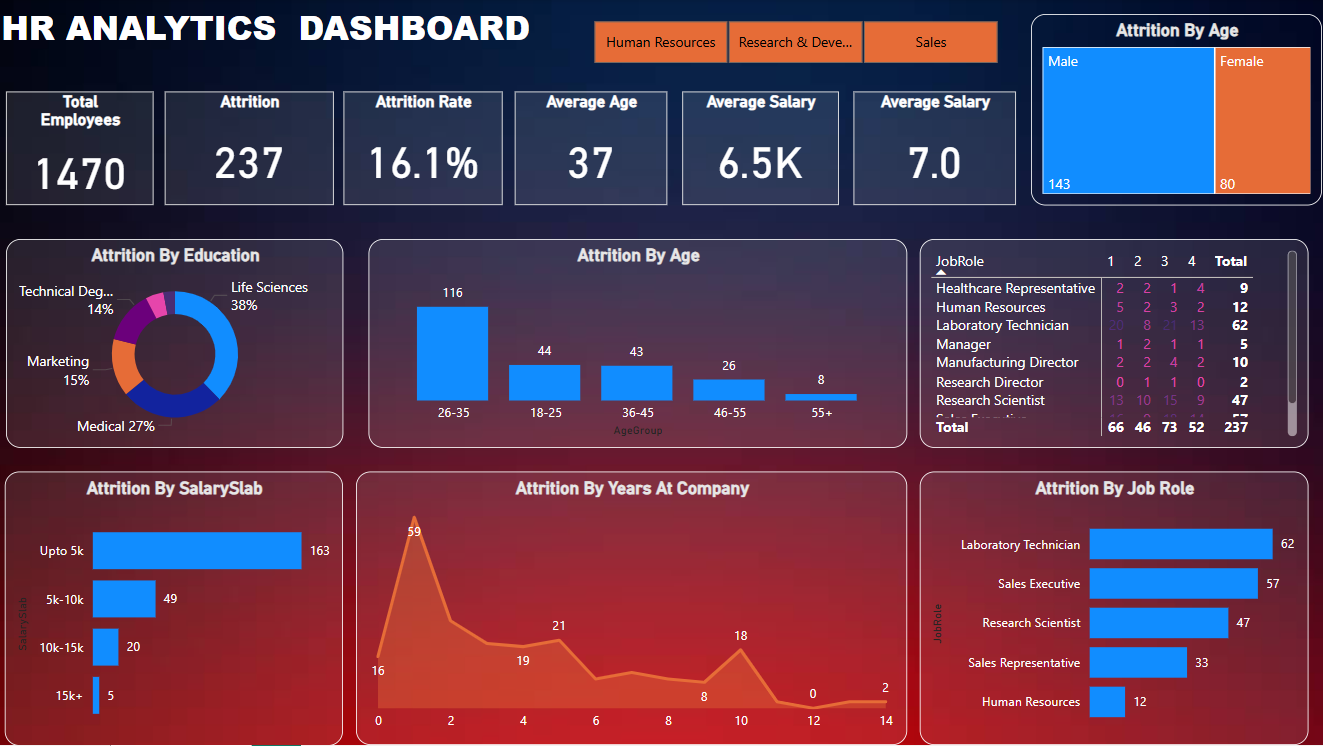

The dashboard page shown, as its layout file describes it:
{"tool":"powerbi","page":{"name":"DASHBOARD","canvas":[1280,720],"ordinal":0},"visuals":[{"type":"card","title":"Total Employees","fields":{"Values":["Count(HR_Analytics.EmpID)"]},"box":[9.7,89.3,142.4,109.8],"z":0},{"type":"card","title":"Attrition","fields":{"Values":["Sum(HR_Analytics.AttritionCount)"]},"box":[162.9,89.3,162.9,109.8],"z":1},{"type":"card","title":"Attrition Rate","fields":{"Values":["HR_Analytics.AttritionRate"]},"box":[335.4,89.3,153.2,109.8],"z":2},{"type":"card","title":"Average Age","fields":{"Values":["Avg(HR_Analytics.Age)"]},"box":[500.7,89.3,147.2,109.8],"z":3},{"type":"card","title":"Average Salary","fields":{"Values":["Avg(HR_Analytics.MonthlyIncome)"]},"box":[662.3,89.3,150.8,109.8],"z":4},{"type":"card","title":"Average Salary","fields":{"Values":["Avg(HR_Analytics.YearsAtCompany)"]},"box":[827.6,89.3,156.8,109.8],"z":5},{"type":"donutChart","title":"Attrition By Education","fields":{"Category":["HR_Analytics.EducationField"],"Y":["Sum(HR_Analytics.AttritionCount)"]},"box":[9.7,231.6,325.7,201.5],"z":6},{"type":"columnChart","title":"Attrition By Age","fields":{"Category":["HR_Analytics.AgeGroup"],"Y":["Sum(HR_Analytics.AttritionCount)"]},"box":[359.5,231.6,520,201.5],"z":7},{"type":"pivotTable","fields":{"Rows":["HR_Analytics.JobRole"],"Columns":["HR_Analytics.JobSatisfaction"],"Values":["Sum(HR_Analytics.AttritionCount)"]},"box":[891.6,231.6,375.2,201.5],"z":8},{"type":"barChart","title":"Attrition By SalarySlab","fields":{"Category":["HR_Analytics.SalarySlab"],"Y":["Sum(HR_Analytics.AttritionCount)"]},"box":[8.2,455.6,326.6,264.8],"z":9},{"type":"barChart","title":"Attrition By Job Role","fields":{"Y":["Sum(HR_Analytics.AttritionCount)"],"Category":["HR_Analytics.JobRole"]},"box":[891.6,456,375.2,264.2],"z":10},{"type":"areaChart","title":"Attrition By Years At Company","fields":{"Category":["HR_Analytics.YearsAtCompany"],"Y":["Sum(HR_Analytics.AttritionCount)"]},"box":[347.5,456,532,264.2],"z":11},{"type":"treemap","title":"Attrition By Age","fields":{"Values":["Sum(HR_Analytics.AttritionCount)"],"Group":["HR_Analytics.Gender"]},"box":[998.9,14.5,281.1,184.6],"z":12},{"type":"slicer","fields":{"Values":["HR_Analytics.Department"]},"box":[551.3,14.5,439.1,54.3],"z":13},{"type":"textbox","box":[0,0,532,68.8],"z":14}]}

Visuals, with their boxes in screenshot pixels (x1, y1, x2, y2), scaled from the page's 1280x720 canvas onto the 1323x746 screenshot:
"Total Employees" card: <region>10, 93, 157, 206</region>
"Attrition" card: <region>168, 93, 337, 206</region>
"Attrition Rate" card: <region>347, 93, 505, 206</region>
"Average Age" card: <region>518, 93, 670, 206</region>
"Average Salary" card: <region>685, 93, 840, 206</region>
"Average Salary" card: <region>855, 93, 1017, 206</region>
"Attrition By Education" donutChart: <region>10, 240, 347, 449</region>
"Attrition By Age" columnChart: <region>372, 240, 909, 449</region>
pivotTable - HR_Analytics.JobRole x HR_Analytics.JobSatisfaction: <region>922, 240, 1309, 449</region>
"Attrition By SalarySlab" barChart: <region>8, 472, 346, 745</region>
"Attrition By Job Role" barChart: <region>922, 472, 1309, 745</region>
"Attrition By Years At Company" areaChart: <region>359, 472, 909, 745</region>
"Attrition By Age" treemap: <region>1032, 15, 1322, 206</region>
slicer - HR_Analytics.Department: <region>570, 15, 1024, 71</region>
textbox: <region>0, 0, 550, 71</region>
